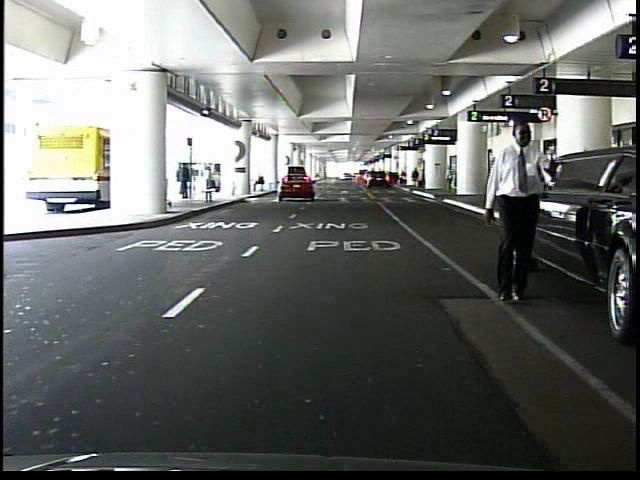person: (475, 115, 557, 306), (178, 161, 193, 200), (443, 166, 456, 194), (253, 171, 266, 194), (411, 167, 420, 190)
